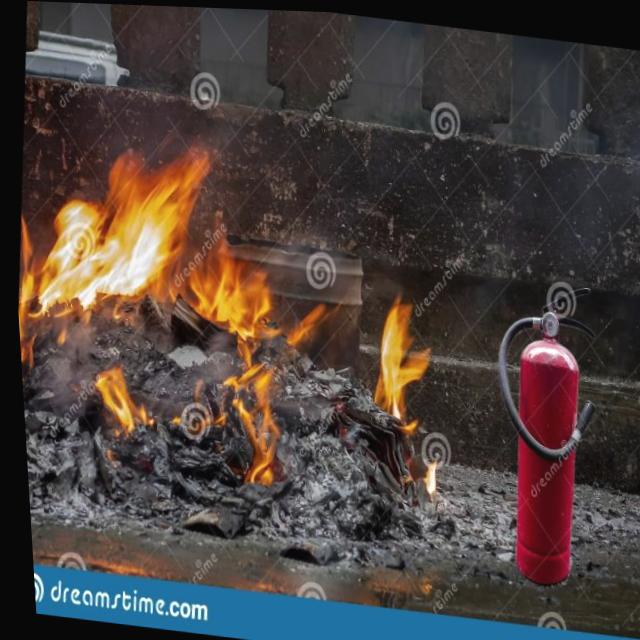FireExtinguisher: (462, 260, 611, 595)
